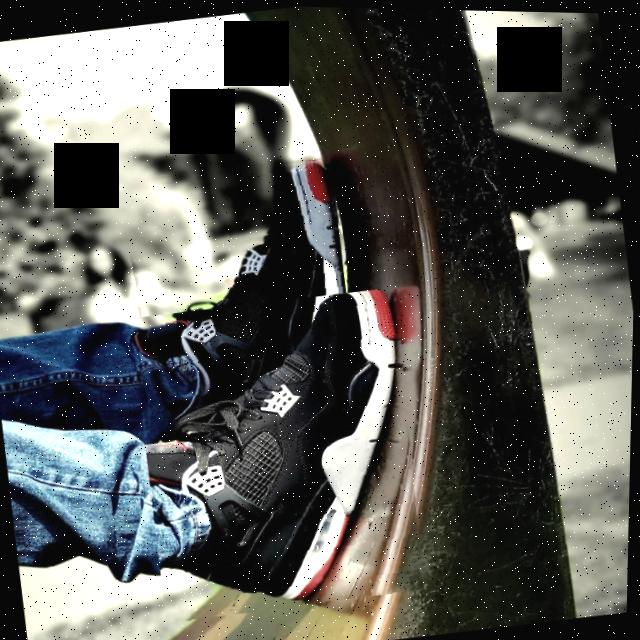shoe: (127, 280, 441, 627), (113, 151, 366, 437)
